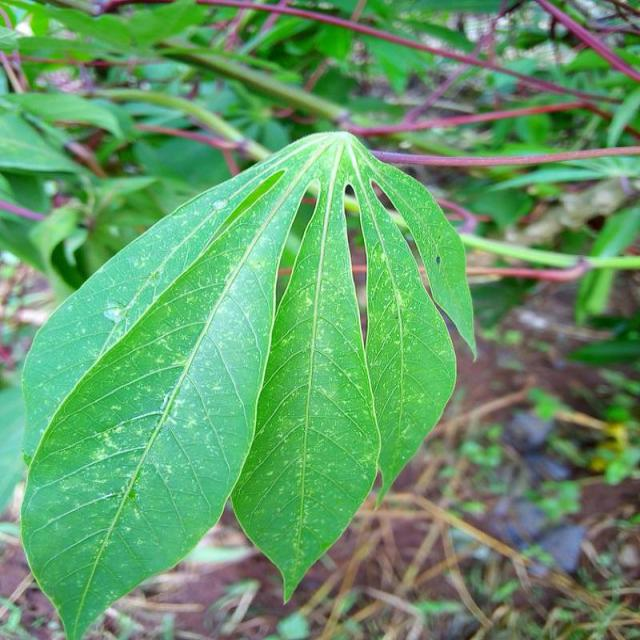cassava leaf: (18, 128, 477, 637)
